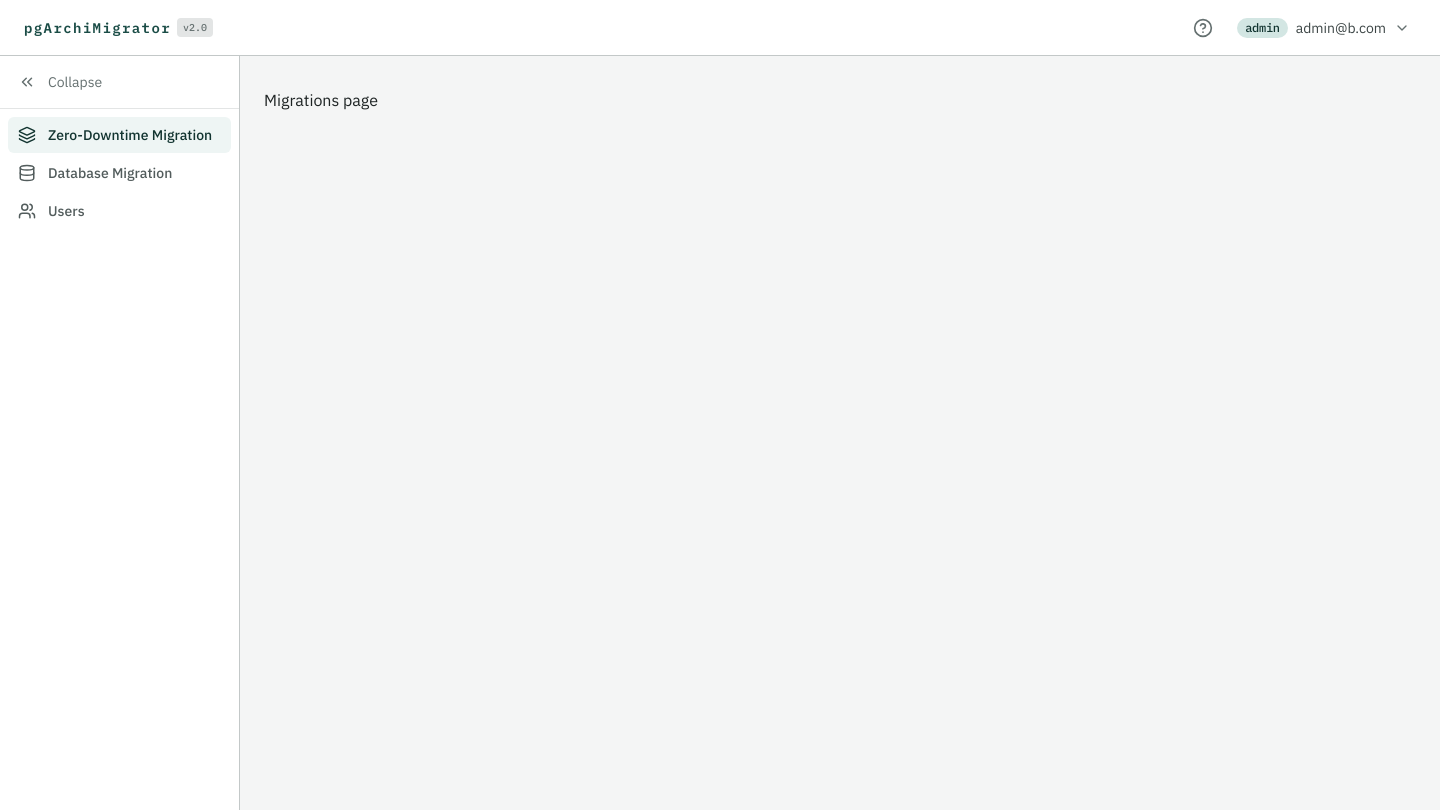
Shell accessibility › moves focus to the main landmark on every route change
Click the button "admin admin@b.com": (1323, 28) left=1229, top=12, right=1416, bottom=44
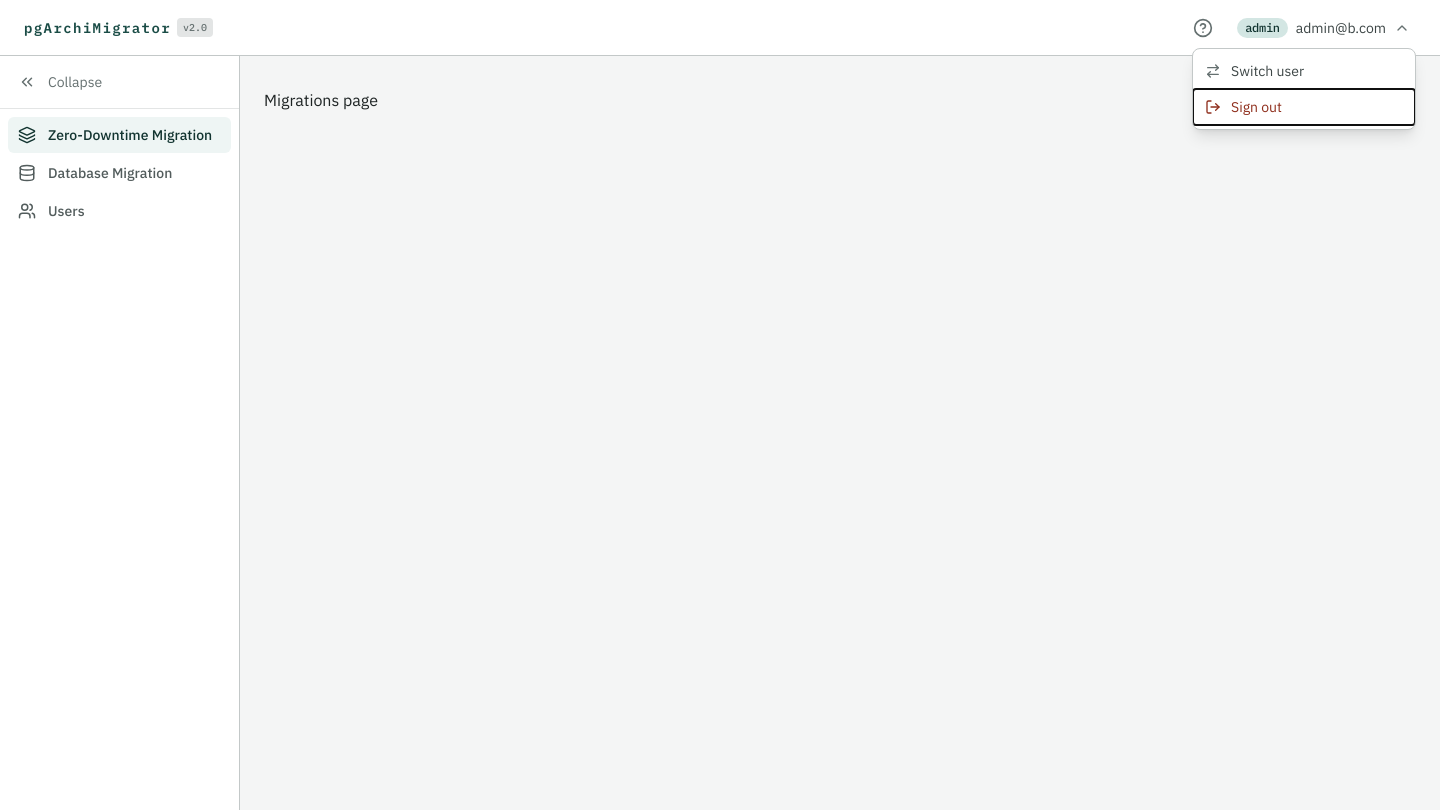
Click the link "Users": (51, 211) left=18, top=202, right=85, bottom=220
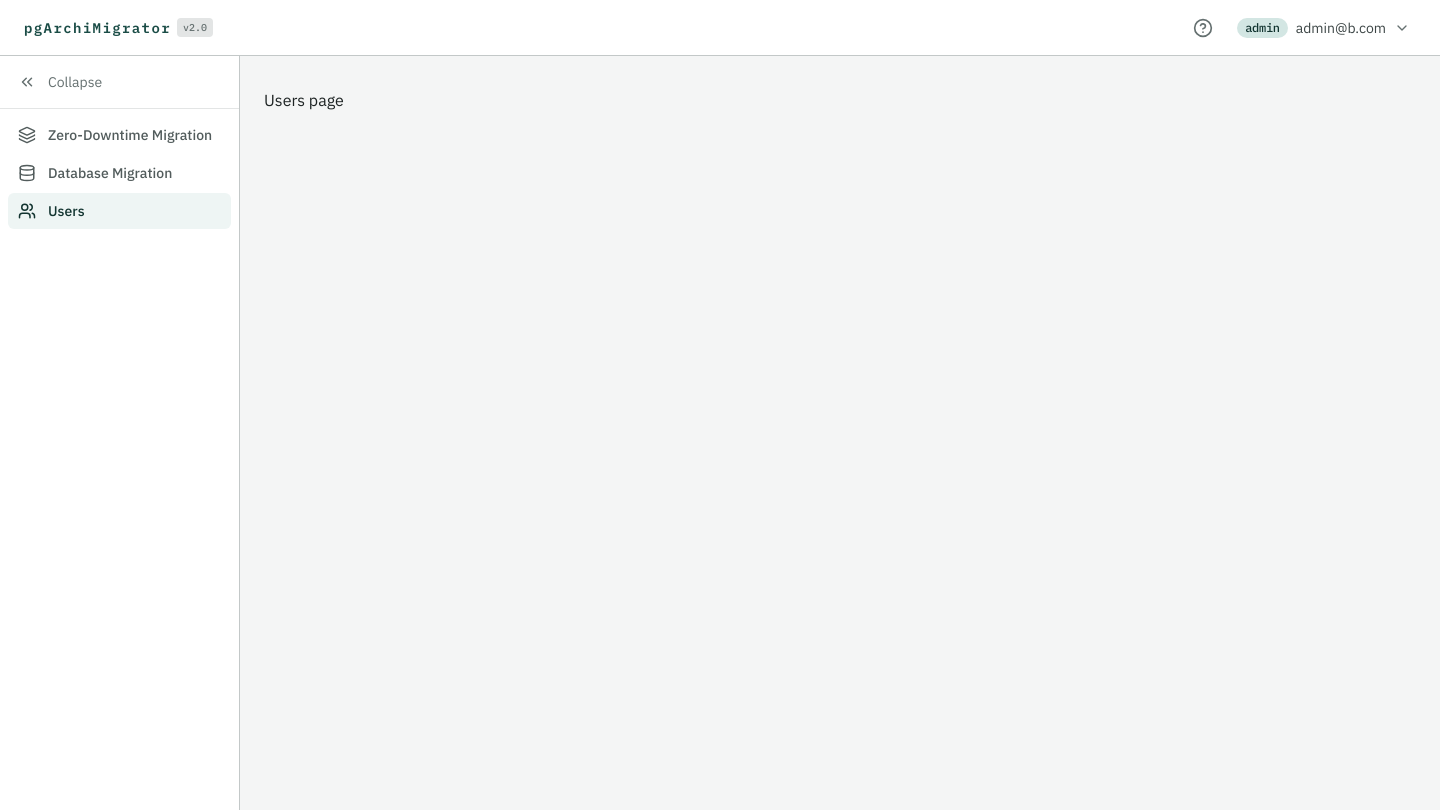
Check: the heading "Users page" is shown, box left=264, top=90, right=344, bottom=110
